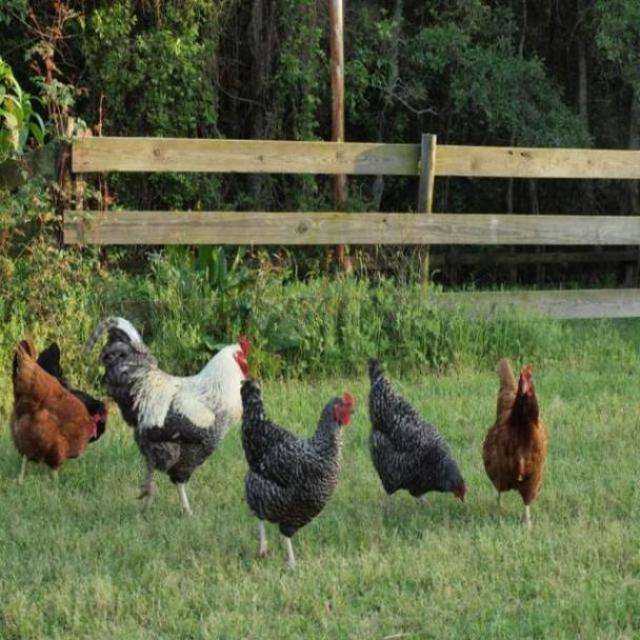Chicken: (83, 314, 251, 519), (223, 371, 354, 564), (367, 356, 467, 518), (10, 334, 97, 483), (481, 356, 547, 528)
